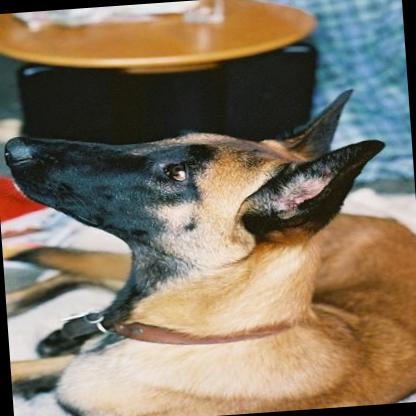malinois: (0, 81, 416, 416)
